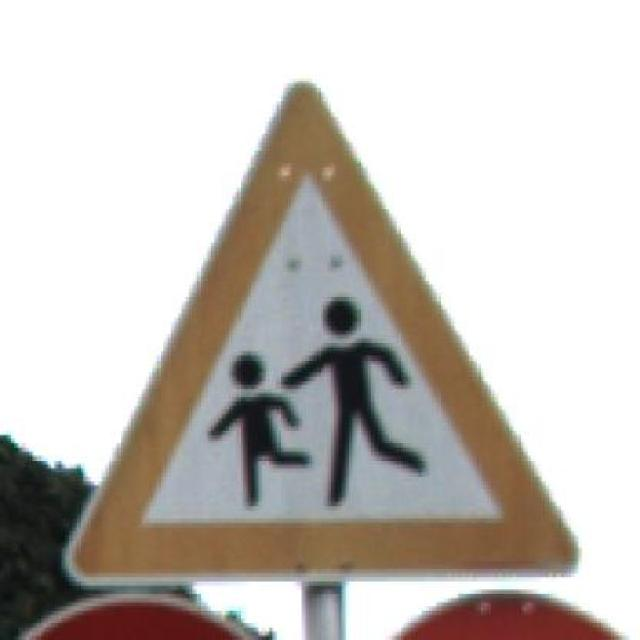Beware of children: (43, 58, 600, 590)
